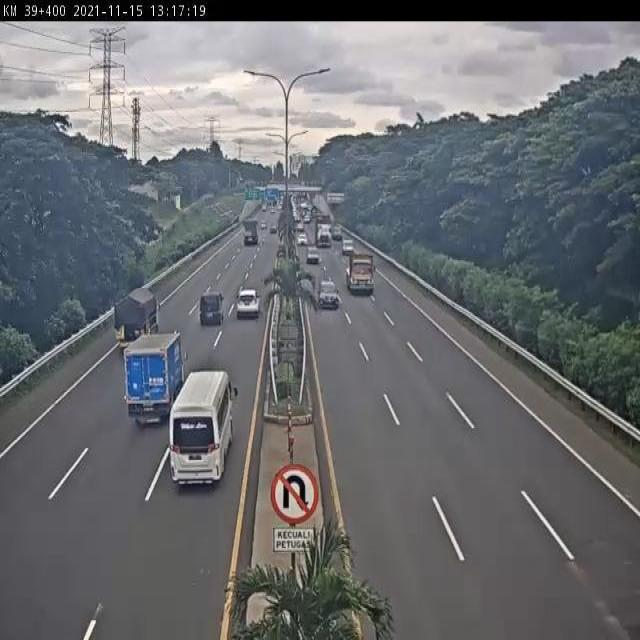ARABA: (198, 289, 224, 331), (236, 284, 262, 319), (317, 276, 342, 312)
KAMYONET: (123, 328, 184, 420), (114, 287, 161, 356)
OTOBUS: (168, 367, 238, 488)
TIR: (342, 251, 377, 296)
